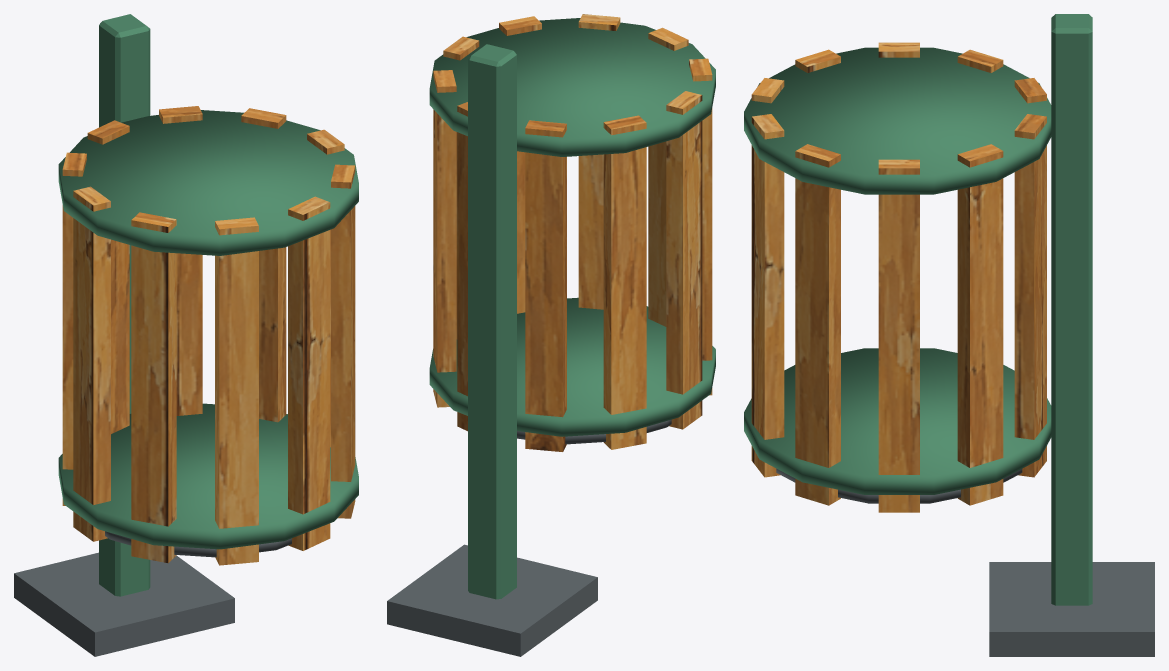
3 views of the same model, side by side, from view 1: azimuth 30°, elevation 25°; view 2: azimuth 150°, elevation 25°; view 3: azimuth 270°, elevation 25° (orthographic). The views are drawn at different scales.
Visible parts, largest first — view 1: seaside_timber, house_paint; view 2: house_paint, seaside_timber; view 3: house_paint, seaside_timber.
Part boxes in pixels (left/top/right/bottom): seaside_timber: left=62, top=106, right=355, bottom=565; house_paint: left=14, top=14, right=358, bottom=656; house_paint: left=387, top=18, right=715, bottom=656; seaside_timber: left=433, top=14, right=712, bottom=451; house_paint: left=744, top=14, right=1154, bottom=656; seaside_timber: left=751, top=42, right=1046, bottom=512.
Bounding box in the file's own units: 0.4387 × 0.96 × 0.595.
Materials: 2 (2 with a texture image).
